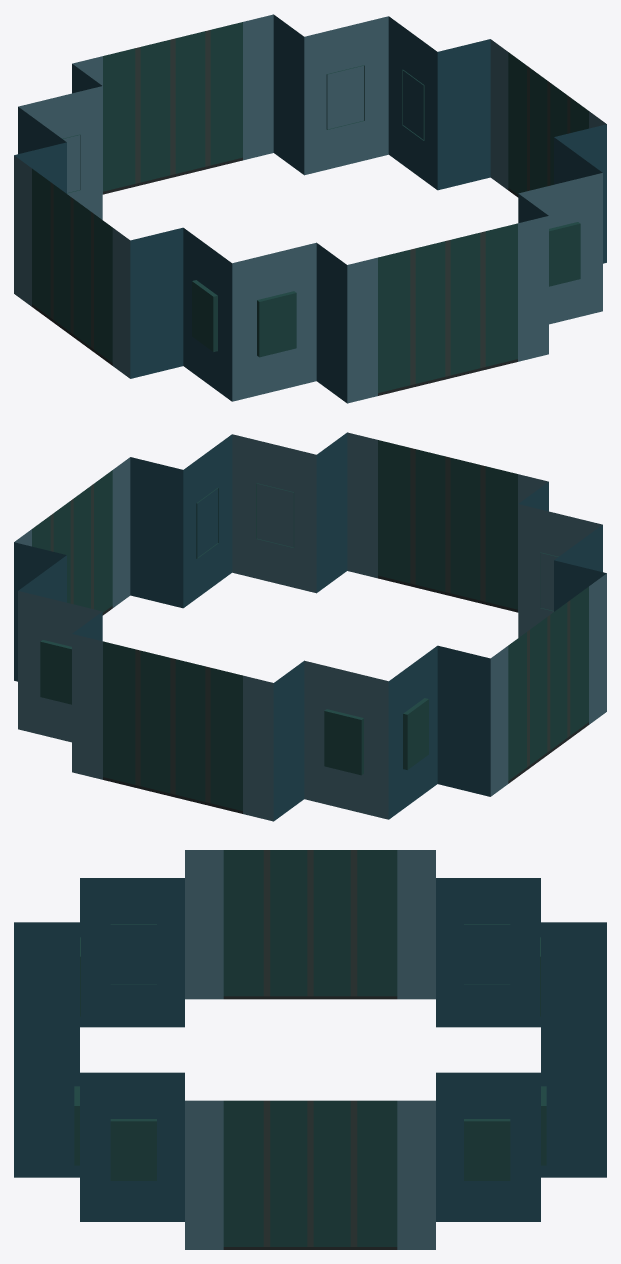
The model's file is TB_CITY_Skysc_F_BodyC_Blue.FBX.
3 renders of one model, top to bottom at view 1: azimuth 30°, elevation 25°; view 2: azimuth 150°, elevation 25°; view 3: azimuth 270°, elevation 25°, orthographic. The views are drawn at different scales.
Visible parts, largest first — view 1: TB_CITY_Skysc_F_BodyC_Blue; view 2: TB_CITY_Skysc_F_BodyC_Blue; view 3: TB_CITY_Skysc_F_BodyC_Blue.
Part boxes in pixels (<box>): TB_CITY_Skysc_F_BodyC_Blue: <box>14,14,606,403</box>; TB_CITY_Skysc_F_BodyC_Blue: <box>14,432,606,821</box>; TB_CITY_Skysc_F_BodyC_Blue: <box>14,850,606,1249</box>.
Size of the model in its own units: 18 by 5 by 18.
